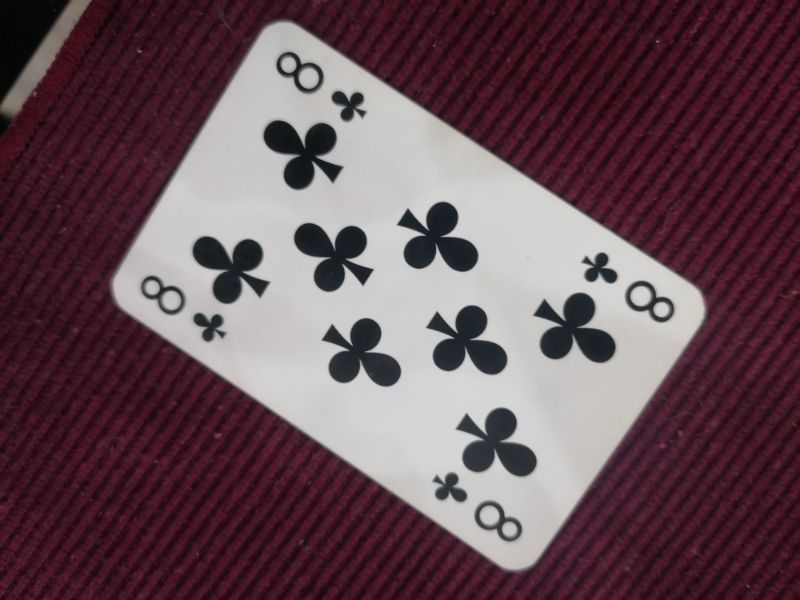8c: (429, 468, 528, 549), (272, 47, 372, 126), (579, 248, 677, 327), (136, 270, 231, 347)
